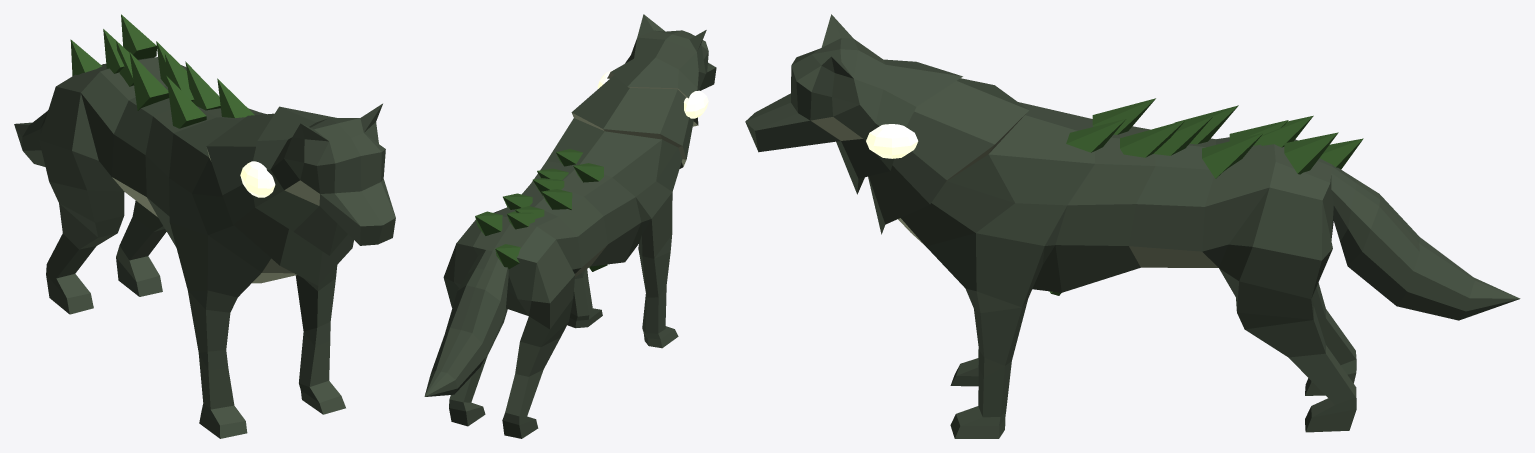
Rendered from MossWolf.fbx.
3 views of the same model, side by side, from view 1: azimuth 30°, elevation 25°; view 2: azimuth 150°, elevation 25°; view 3: azimuth 270°, elevation 25° (orthographic). The views are drawn at different scales.
Parts seen in each view (by area): view 1: Head, LegBL, Body, LegFL, Deco_Moss, LegFR, LegBR, Glow_96ff5a; view 2: Head, Body, LegBL, LegFL, Deco_Moss, LegBR, LegFR, Glow_96ff5a; view 3: Head, Body, LegBR, LegFR, LegBL, Deco_Moss, Glow_96ff5a.
Boxes of the visible parts, left/top/right/bottom form: Head: left=173, top=103, right=395, bottom=285; LegBL: left=14, top=86, right=124, bottom=314; Body: left=56, top=57, right=258, bottom=247; LegFL: left=169, top=178, right=261, bottom=438; Deco_Moss: left=70, top=14, right=254, bottom=128; LegFR: left=295, top=265, right=345, bottom=414; LegBR: left=116, top=200, right=166, bottom=296; Glow_96ff5a: left=240, top=142, right=385, bottom=197; Head: left=546, top=14, right=716, bottom=191; Body: left=454, top=140, right=661, bottom=314; LegBL: left=424, top=240, right=580, bottom=438; LegFL: left=625, top=181, right=678, bottom=348; Deco_Moss: left=475, top=149, right=607, bottom=271; LegBR: left=443, top=244, right=507, bottom=426; LegFR: left=567, top=269, right=602, bottom=328; Glow_96ff5a: left=597, top=70, right=708, bottom=118; Head: left=745, top=14, right=1094, bottom=246; Body: left=988, top=126, right=1379, bottom=292; LegBR: left=1202, top=187, right=1356, bottom=432; LegFR: left=926, top=203, right=1067, bottom=438; LegBL: left=1305, top=194, right=1520, bottom=395; Deco_Moss: left=1049, top=98, right=1363, bottom=295; Glow_96ff5a: left=866, top=124, right=918, bottom=158.
Size of the model in its own units: 1.33 by 3.19 by 6.
Materials: 2 (1 with a texture image).
